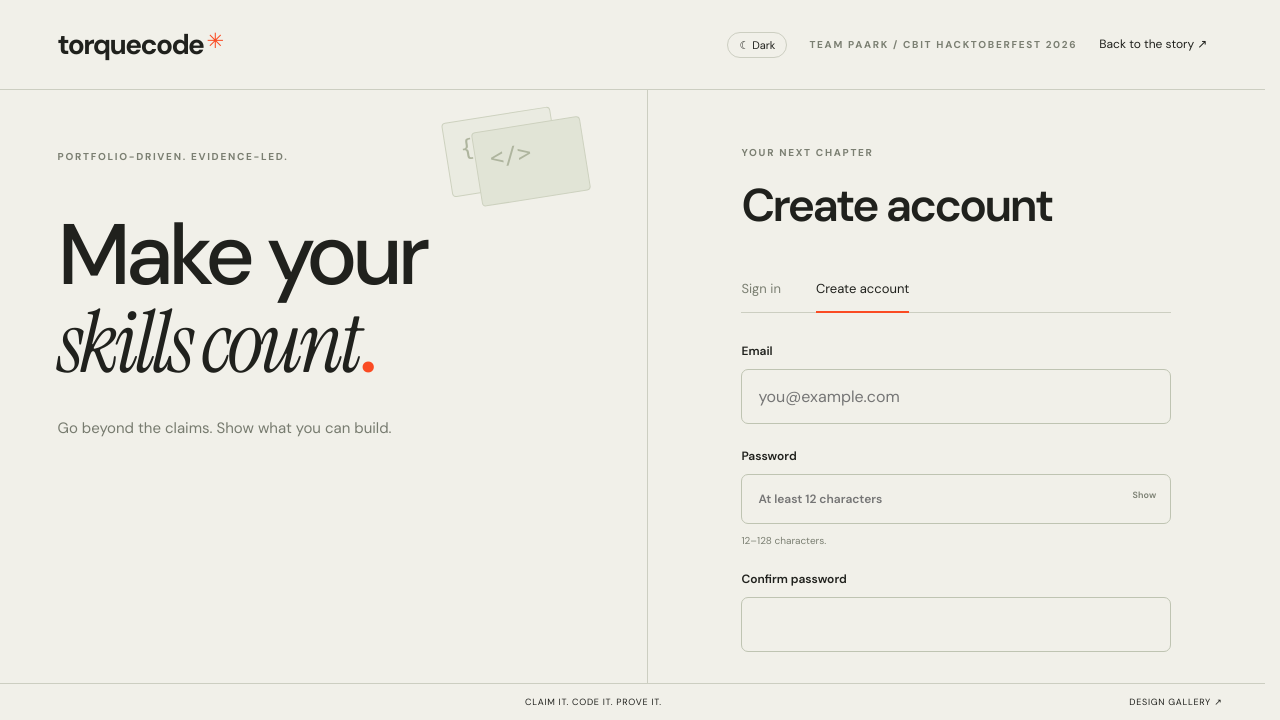
Test: live auth (K2) › maps a duplicate registration (409) to "sign in instead"
The width and height of the screenshot is (1280, 720).
Type "candidate@example.org" into the field labelled "Email" at (956, 396), box [742,369,1172,424]
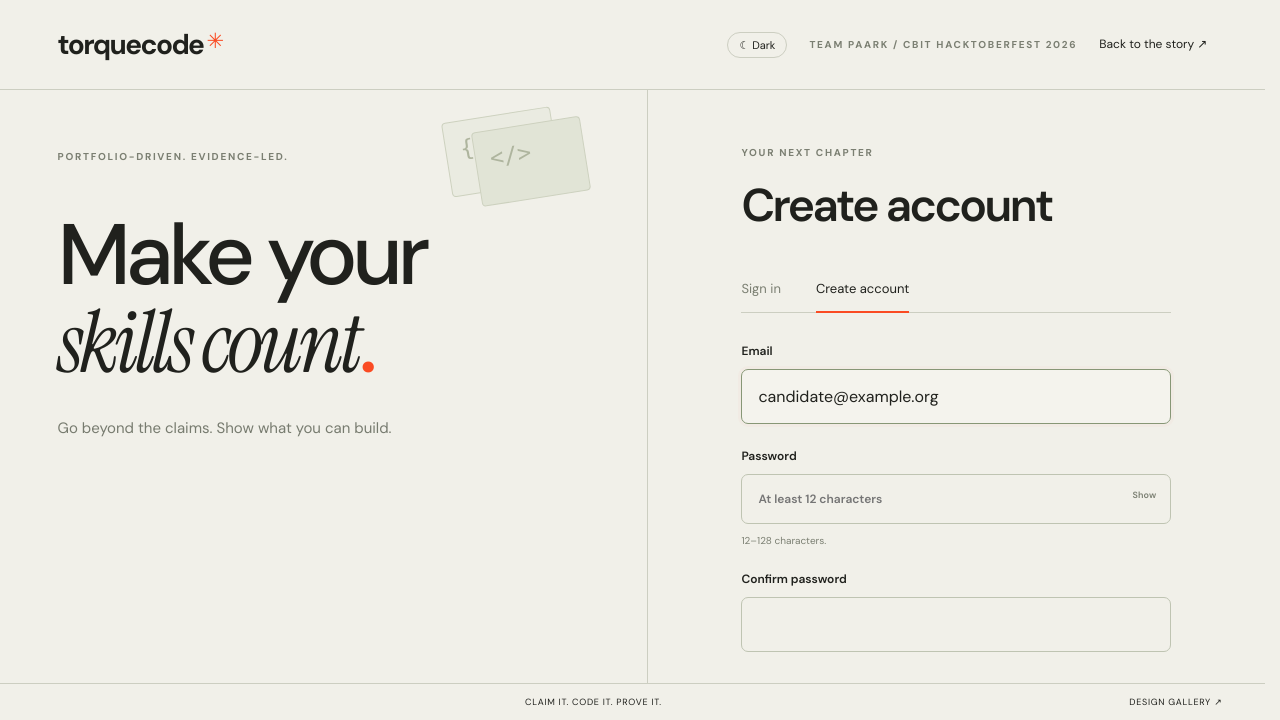
Type "correct horse battery" into the password field labelled "Password Show 12–128 characters." at (956, 499), box [742,474,1172,524]
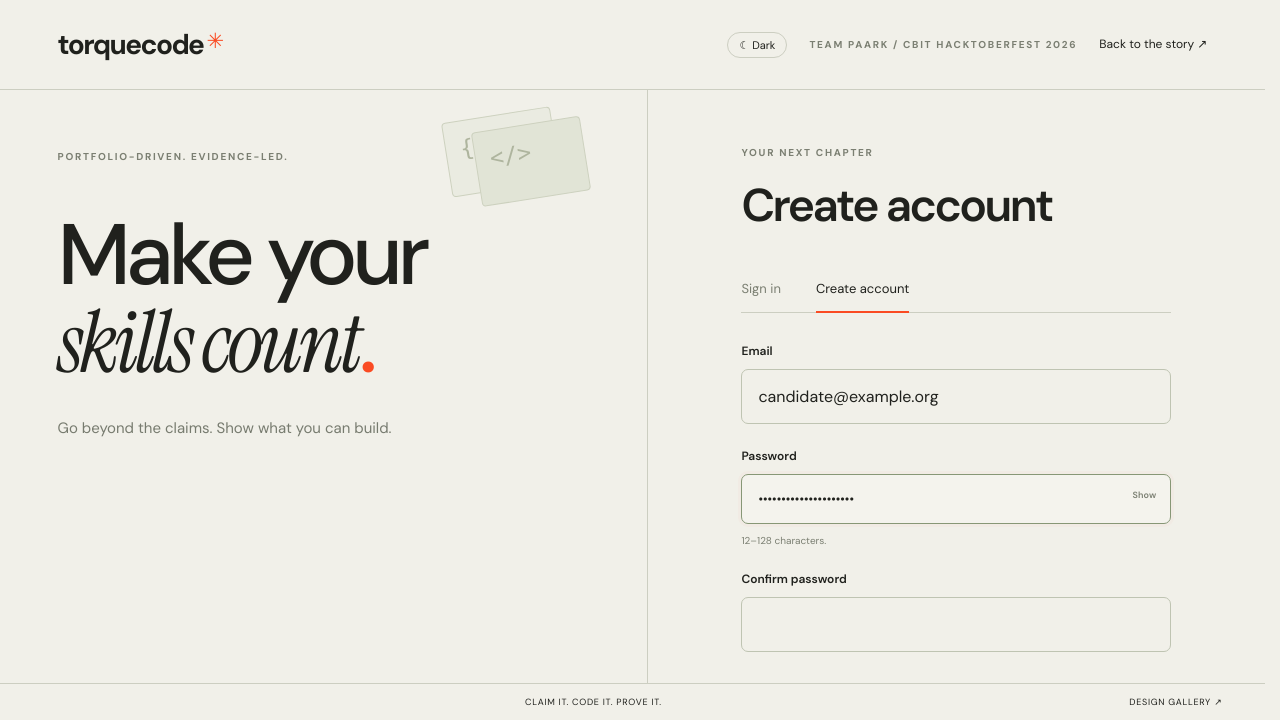
Type "correct horse battery" into the password field labelled "Confirm password" at (956, 624), box [742,597,1172,652]
(page scrolled)
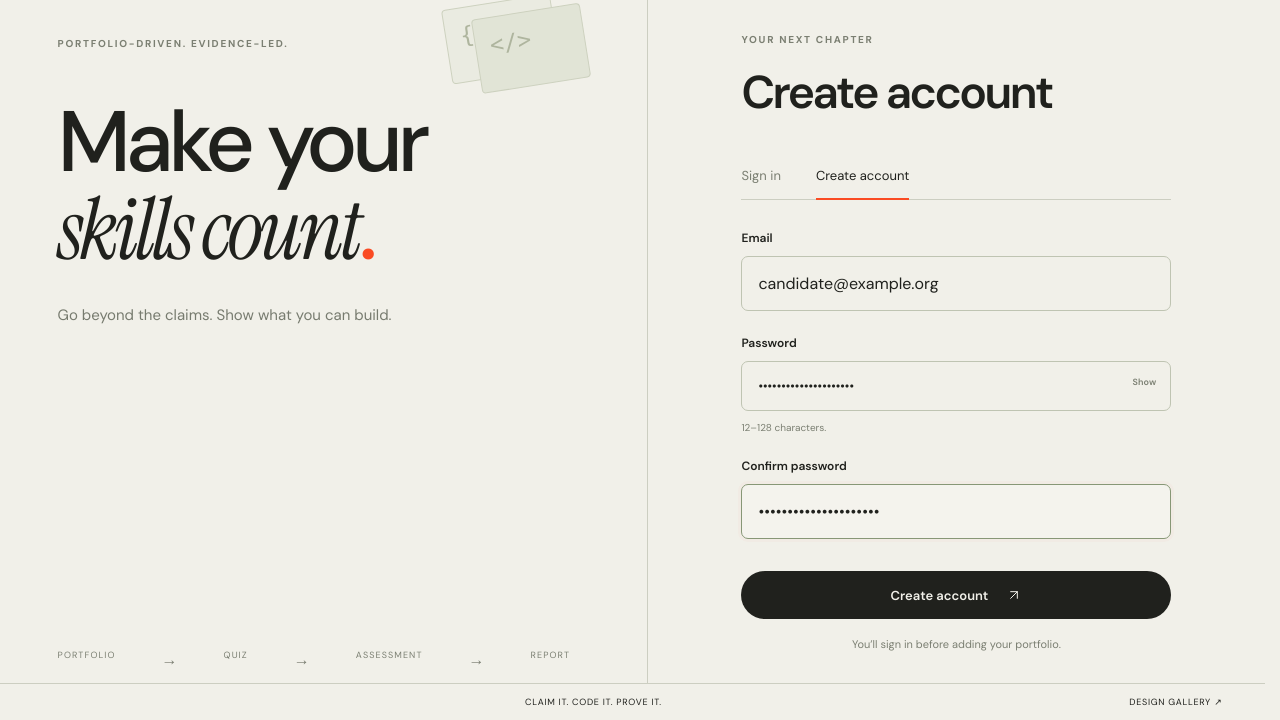
Click the button "Create account" at (956, 595), box [742,571,1172,619]
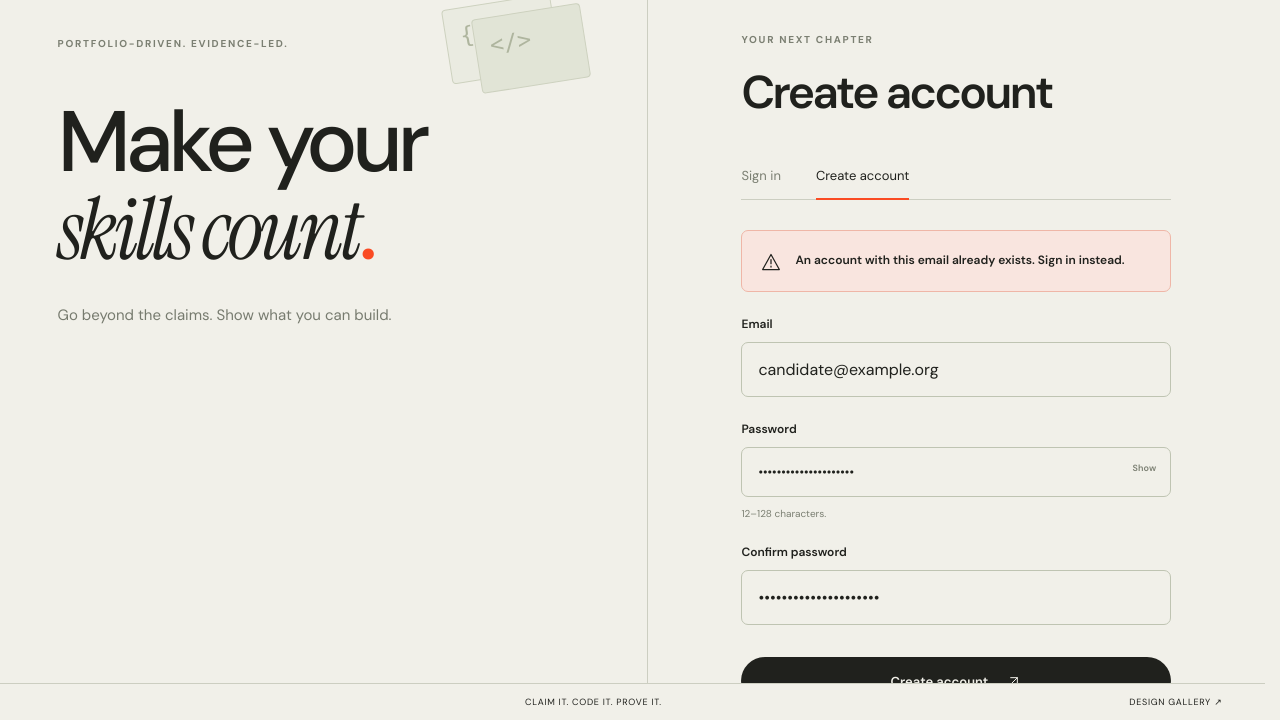
Expected: the message shows "already exists. Sign in instead", [796,252,1125,268]
